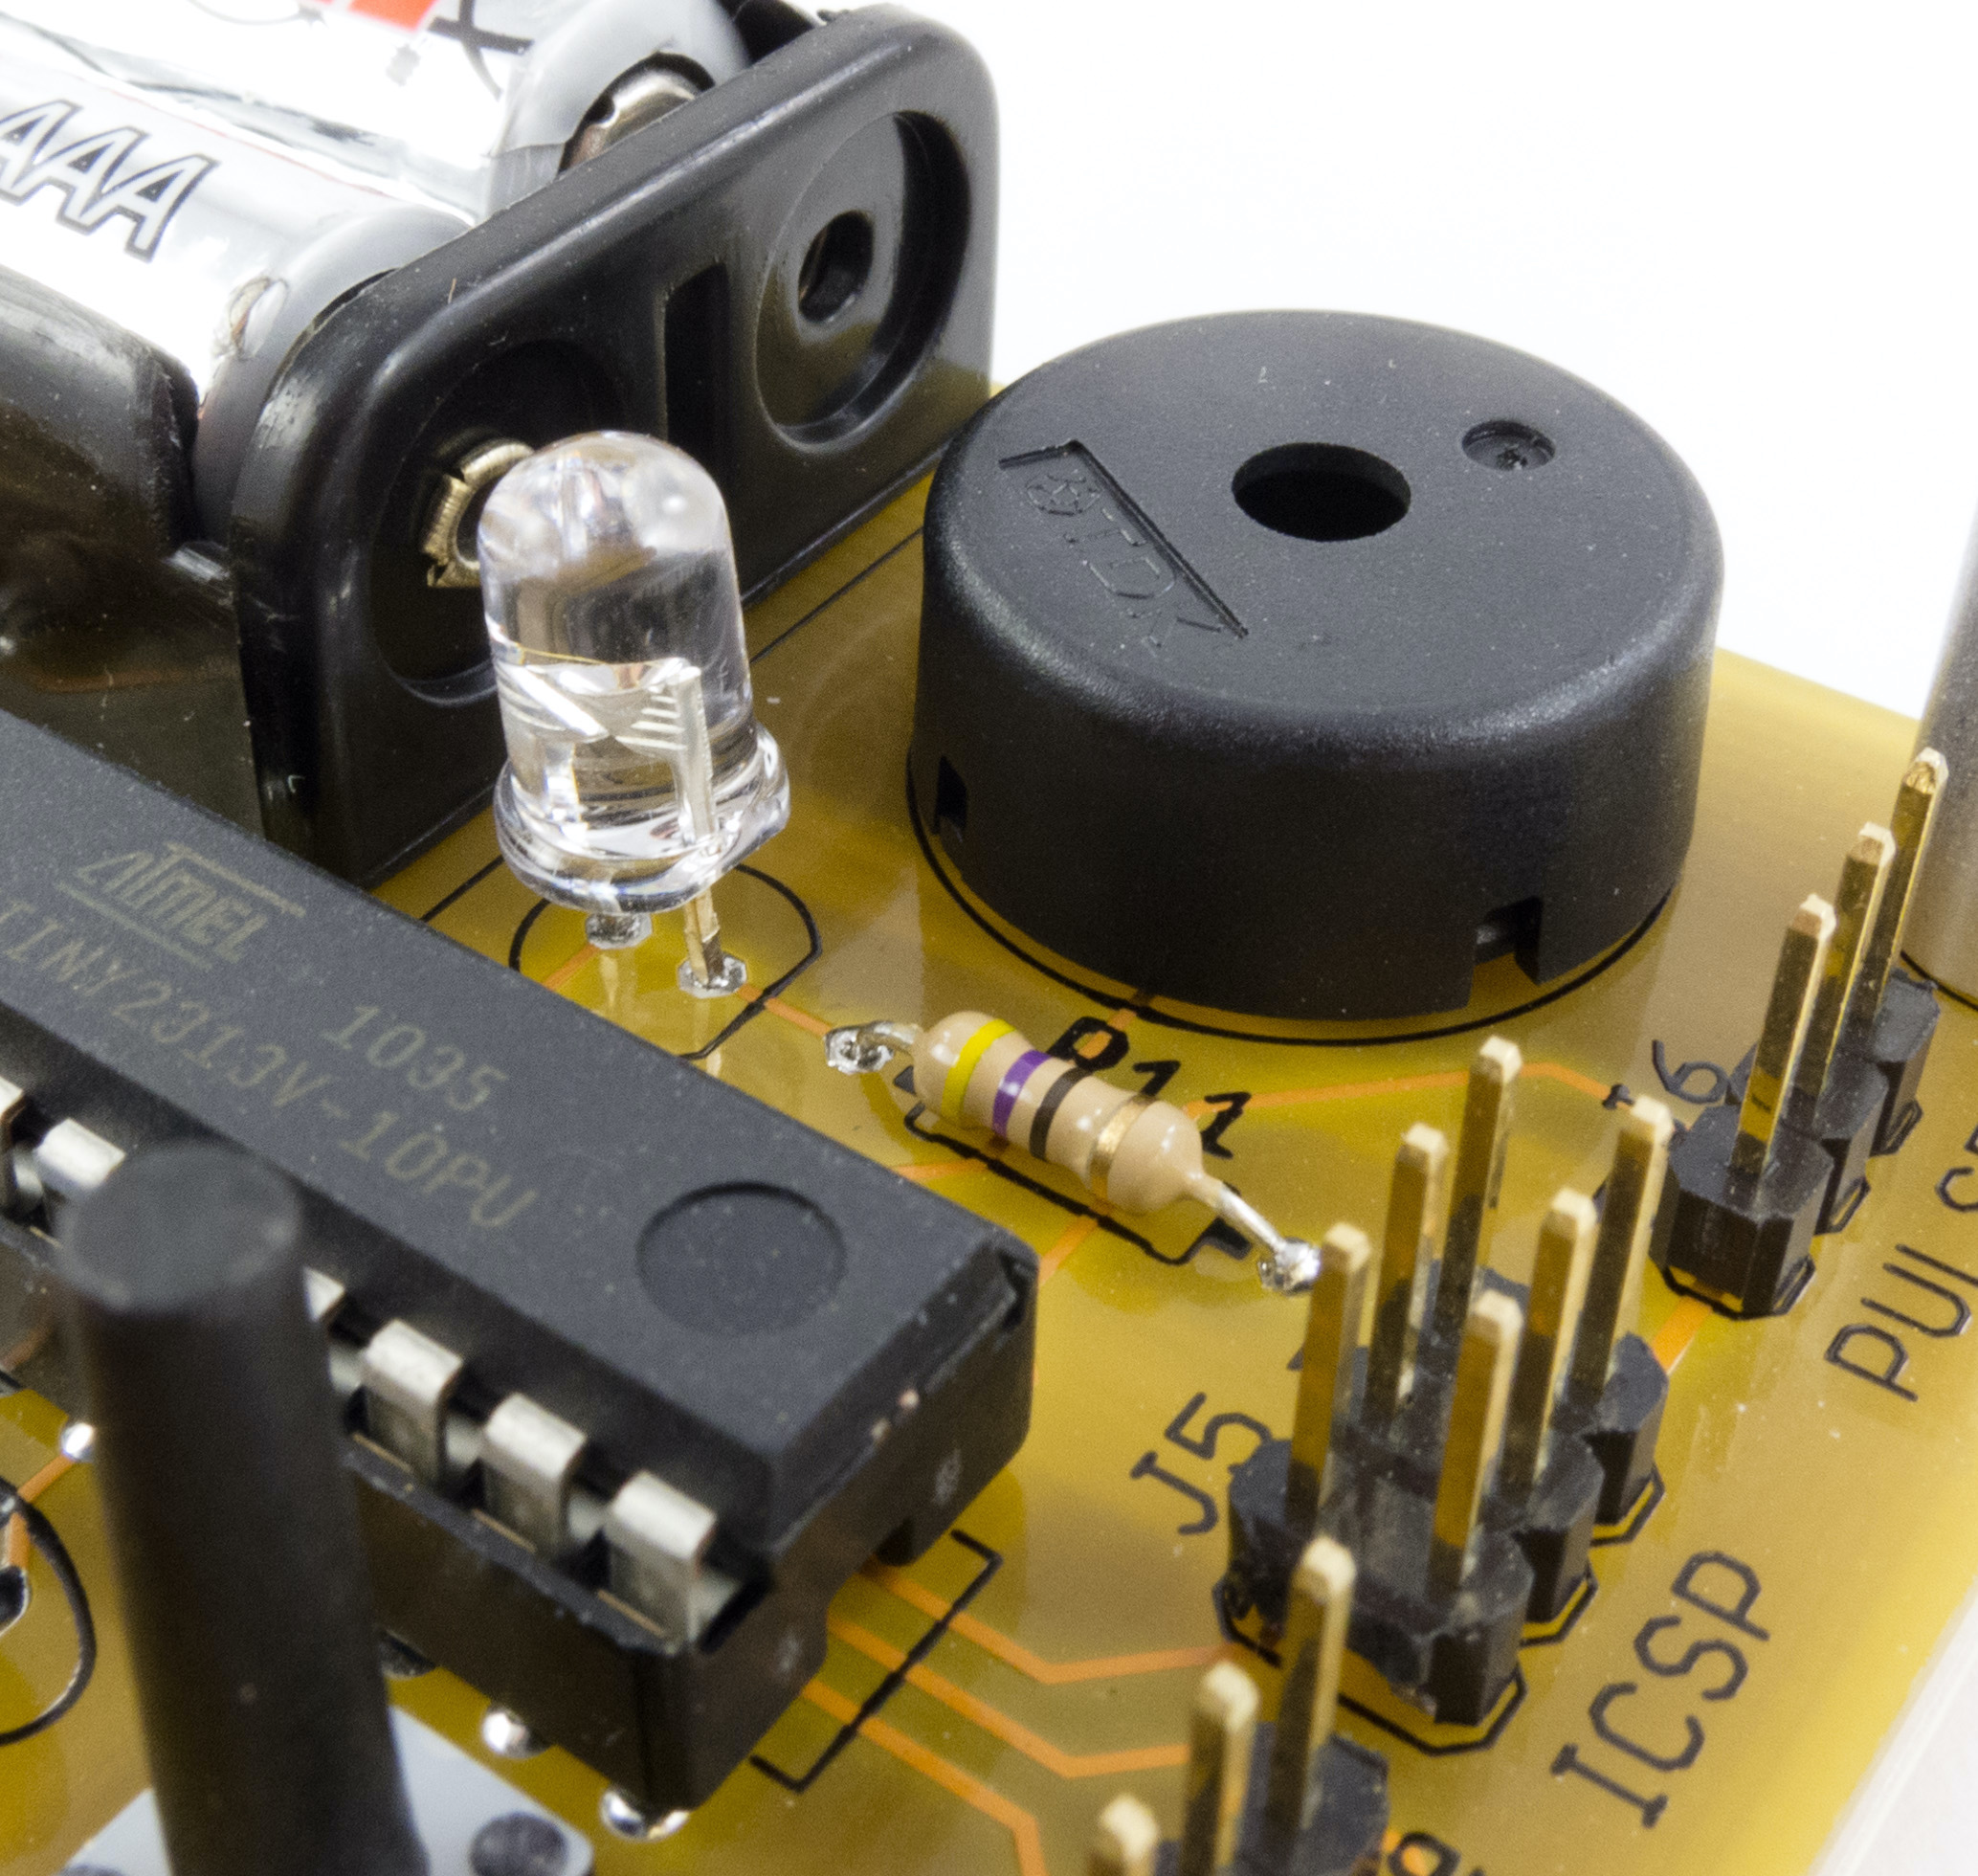LED: (472, 427, 797, 922)
Resistor: (908, 1000, 1227, 1229)
